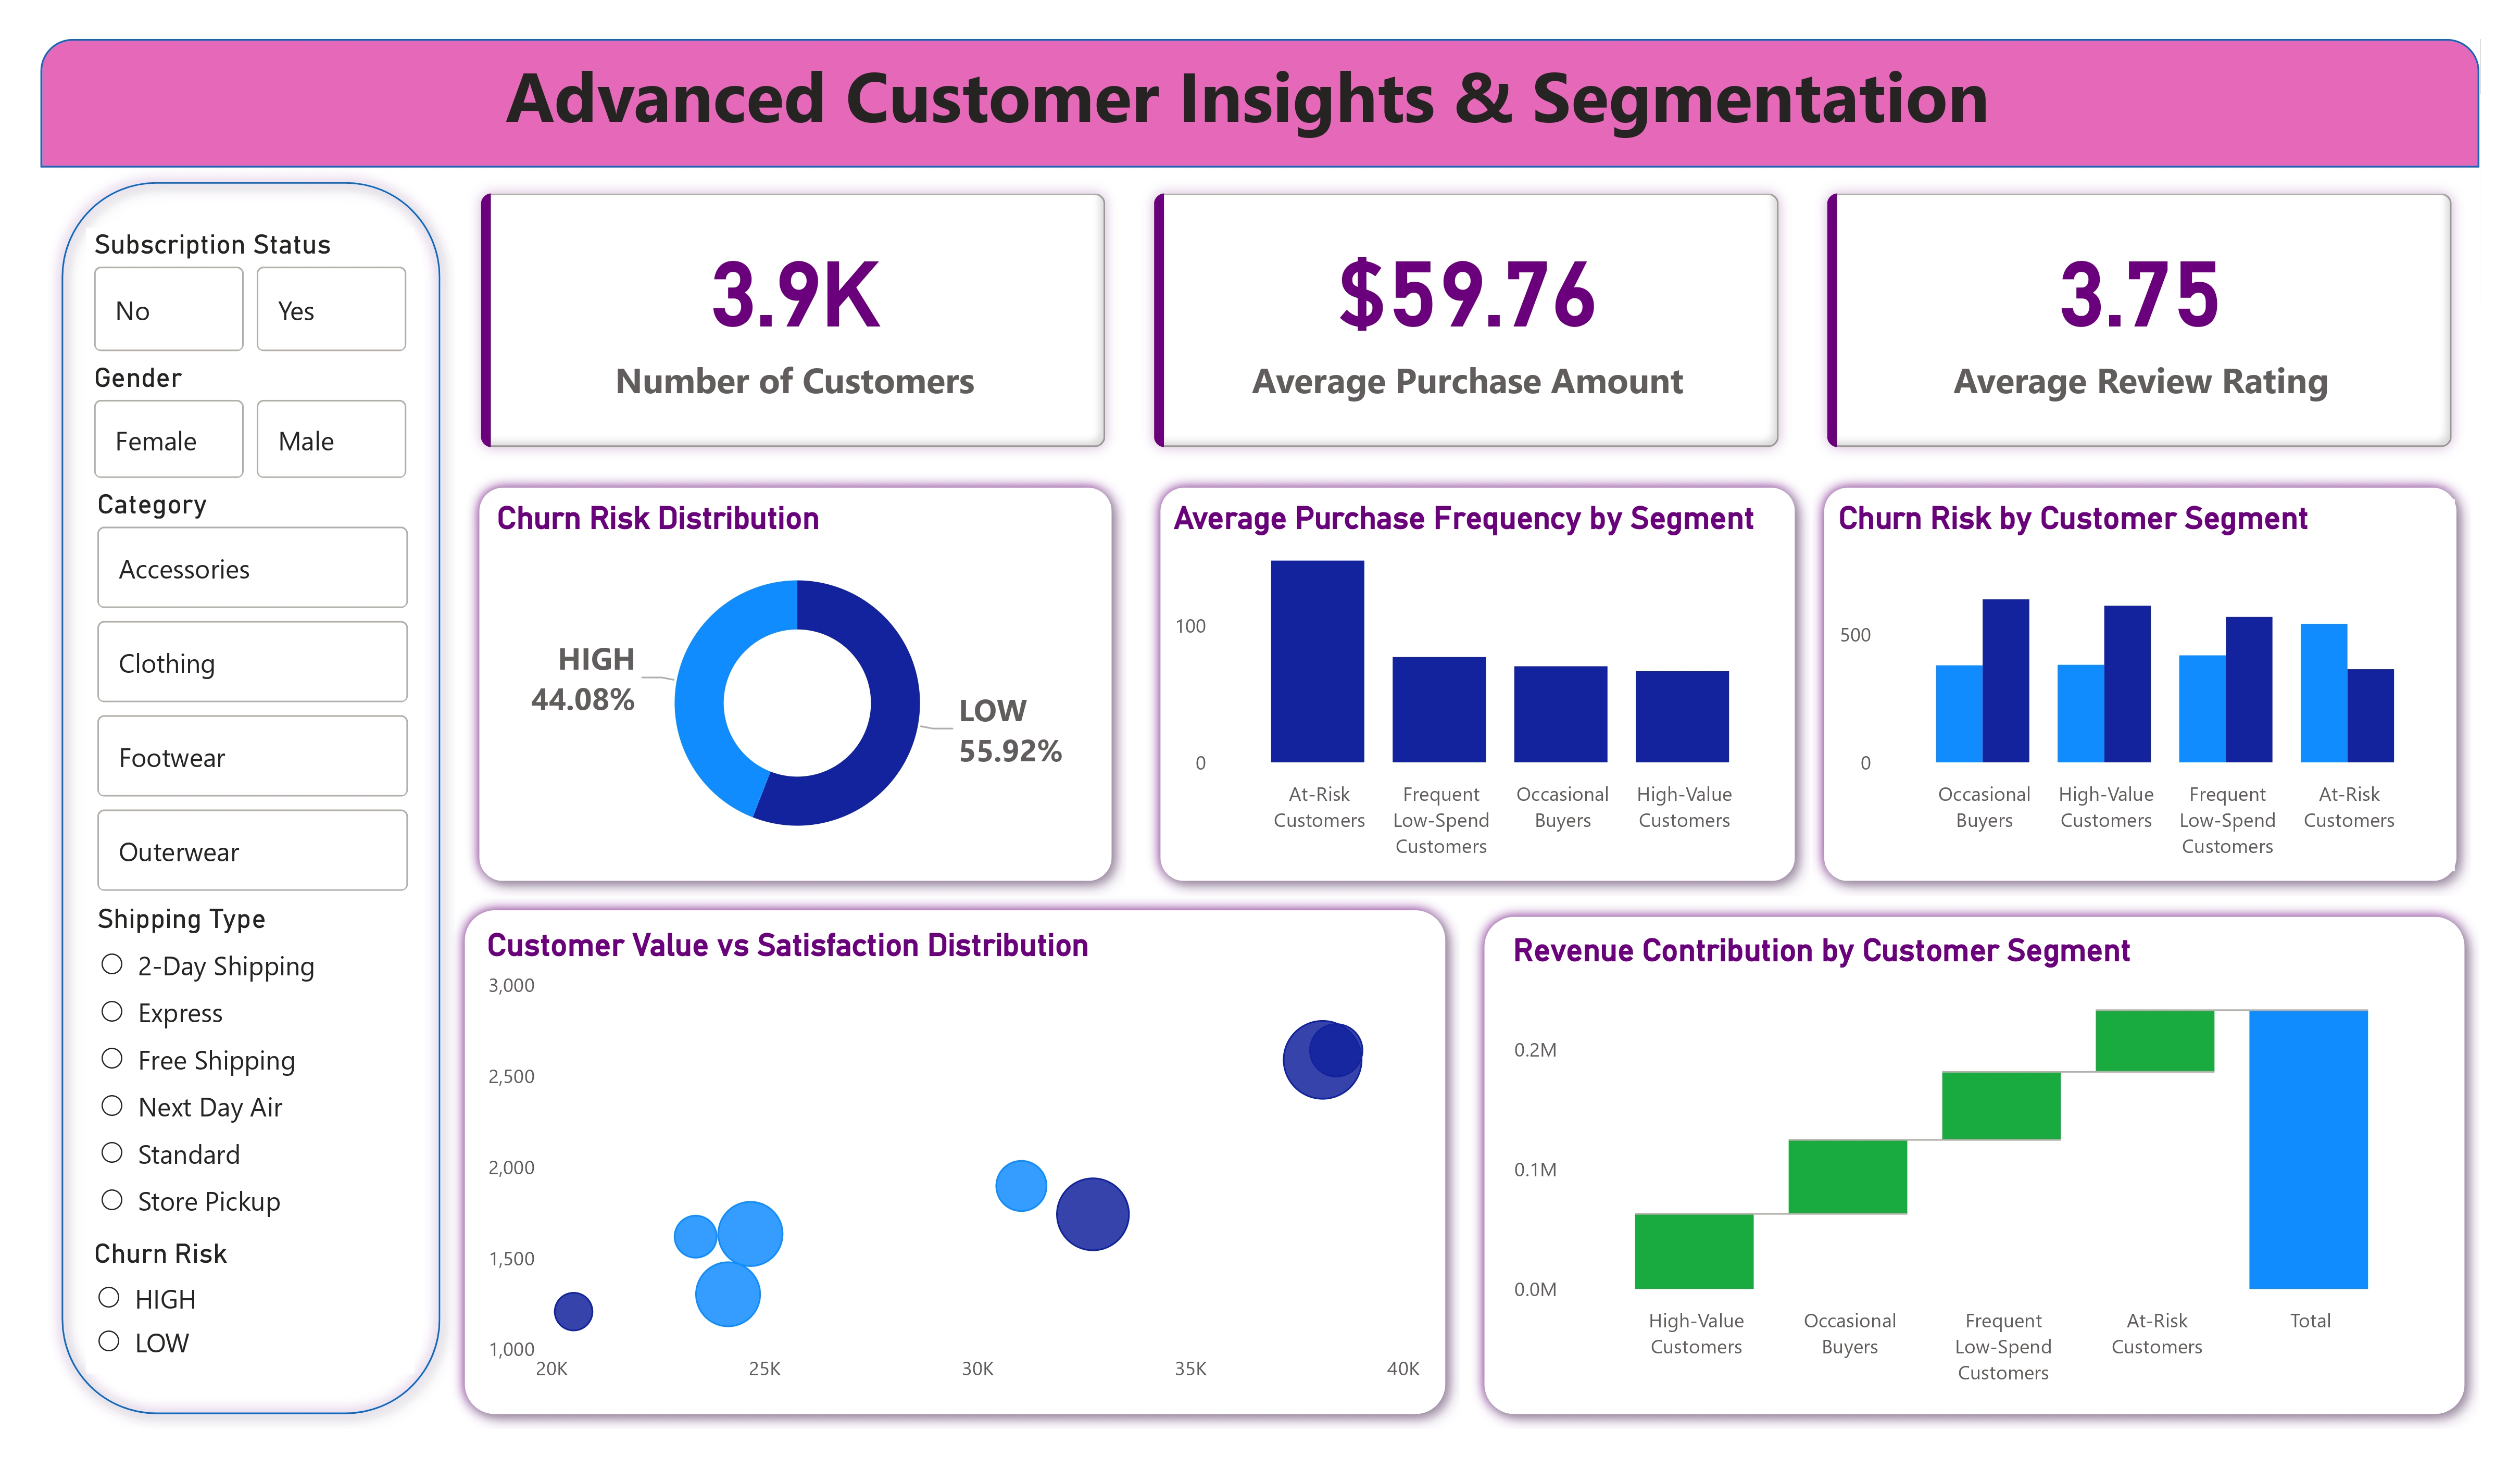

What the dashboard file says about the page in this screenshot:
{"tool":"powerbi","page":{"name":"Advanced customer insights & segmentation","canvas":[1500,855],"ordinal":1},"visuals":[{"type":"cardVisual","fields":{"Data":["public customer.Number of Customers","public customer.Average Purchase Amount","public customer.Average Review Rating"]},"box":[255.1,79.1,1244.4,188],"z":0},{"type":"shape","box":[0,0,1499.5,79.1],"z":1000},{"type":"textbox","box":[0,0,1484.5,90.1],"z":2000},{"type":"shape","box":[261.1,267.1,407.3,259.6],"z":3000},{"type":"donutChart","title":"Churn Risk Distribution","fields":{"Y":["CountNonNull(public customer.customer_id)"],"Category":["public customer.churn_risk_flag"]},"box":[276,283.5,379,228.3],"z":4000},{"type":"shape","box":[680.4,267.1,407.3,259.6],"z":5000},{"type":"shape","box":[1087.7,267.1,407.3,259.6],"z":6000},{"type":"clusteredColumnChart","title":"Average Purchase Frequency by Segment","fields":{"Category":["public customer.customer_segment_label"],"Y":["Avg(public customer.purchase_frequency_days)"]},"box":[692.3,283.5,383.5,228.3],"z":7000},{"type":"clusteredColumnChart","title":"Churn Risk by Customer Segment","fields":{"Category":["public customer.customer_segment_label"],"Y":["CountNonNull(public customer.customer_id)"],"Series":["public customer.churn_risk_flag"]},"box":[1101.1,283.5,383.5,228.3],"z":8000},{"type":"shape","box":[4.5,79.1,250.7,775.9],"z":9000},{"type":"advancedSlicerVisual","title":"Subscription Status","fields":{"Values":["public customer.subscription_status"]},"box":[28.3,116.4,201.4,82.1],"z":10000},{"type":"advancedSlicerVisual","title":"Gender","fields":{"Values":["public customer.gender"]},"box":[28.3,198.4,201.4,77.6],"z":11000},{"type":"advancedSlicerVisual","title":"Category","fields":{"Values":["public customer.category"]},"box":[29.8,276,201.4,255.1],"z":12000},{"type":"listSlicer","title":"Shipping Type","fields":{"Values":["public customer.shipping_type"]},"box":[29.8,531.2,201.4,205.9],"z":13000},{"type":"shape","box":[878.8,531.2,620.7,323.8],"z":14000},{"type":"shape","box":[252.2,526.7,620.7,328.3],"z":15000},{"type":"scatterChart","title":"Customer Value vs Satisfaction Distribution","fields":{"Category":["public customer.customer_segment_label"],"X":["Sum(public customer.purchase_amount)"],"Y":["Sum(public customer.review_rating)"],"Series":["public customer.churn_risk_flag"],"Size":["Sum(public customer.previous_purchases)"]},"box":[270.1,546.1,583.4,289.5],"z":16000},{"type":"waterfallChart","title":"Revenue Contribution by Customer Segment","fields":{"Y":["Sum(public customer.purchase_amount)"],"Category":["public customer.customer_segment_label"]},"box":[901.2,549.1,575.9,286.5],"z":17000},{"type":"listSlicer","title":"Churn Risk","fields":{"Values":["public customer.churn_risk_flag"]},"box":[28.3,737.1,201.4,83.6],"z":18000}]}

Visuals, with their boxes in screenshot pixels (x1, y1, x2, y2):
cardVisual - public customer.Number of Customers x public customer.Average Purchase Amount: (454,168,2480,473)
shape: (39,39,2480,168)
textbox: (39,39,2456,185)
shape: (464,473,1127,896)
"Churn Risk Distribution" donutChart: (488,500,1106,872)
shape: (1147,473,1810,896)
shape: (1810,473,2473,896)
"Average Purchase Frequency by Segment" clusteredColumnChart: (1166,500,1790,872)
"Churn Risk by Customer Segment" clusteredColumnChart: (1832,500,2456,872)
shape: (46,168,455,1430)
"Subscription Status" advancedSlicerVisual: (85,229,413,362)
"Gender" advancedSlicerVisual: (85,362,413,488)
"Category" advancedSlicerVisual: (87,488,416,903)
"Shipping Type" listSlicer: (87,903,416,1238)
shape: (1470,903,2480,1430)
shape: (449,896,1460,1430)
"Customer Value vs Satisfaction Distribution" scatterChart: (479,927,1428,1398)
"Revenue Contribution by Customer Segment" waterfallChart: (1506,932,2443,1398)
"Churn Risk" listSlicer: (85,1238,413,1374)
